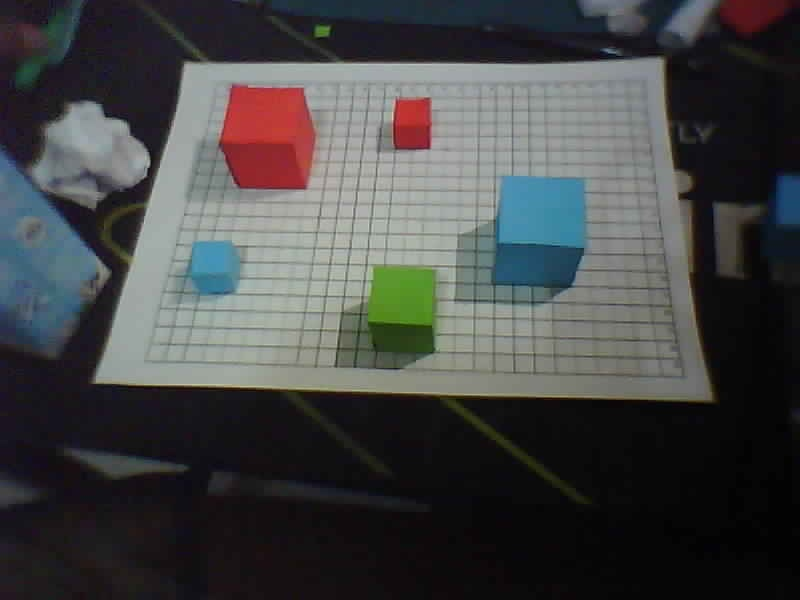blue(2x2x2): (182, 227, 248, 304)
blue(4x4x4): (483, 159, 587, 288)
green(3x3x3): (355, 244, 454, 358)
red(2x2x2): (381, 99, 439, 156)
red(4x4x4): (211, 77, 328, 193)
